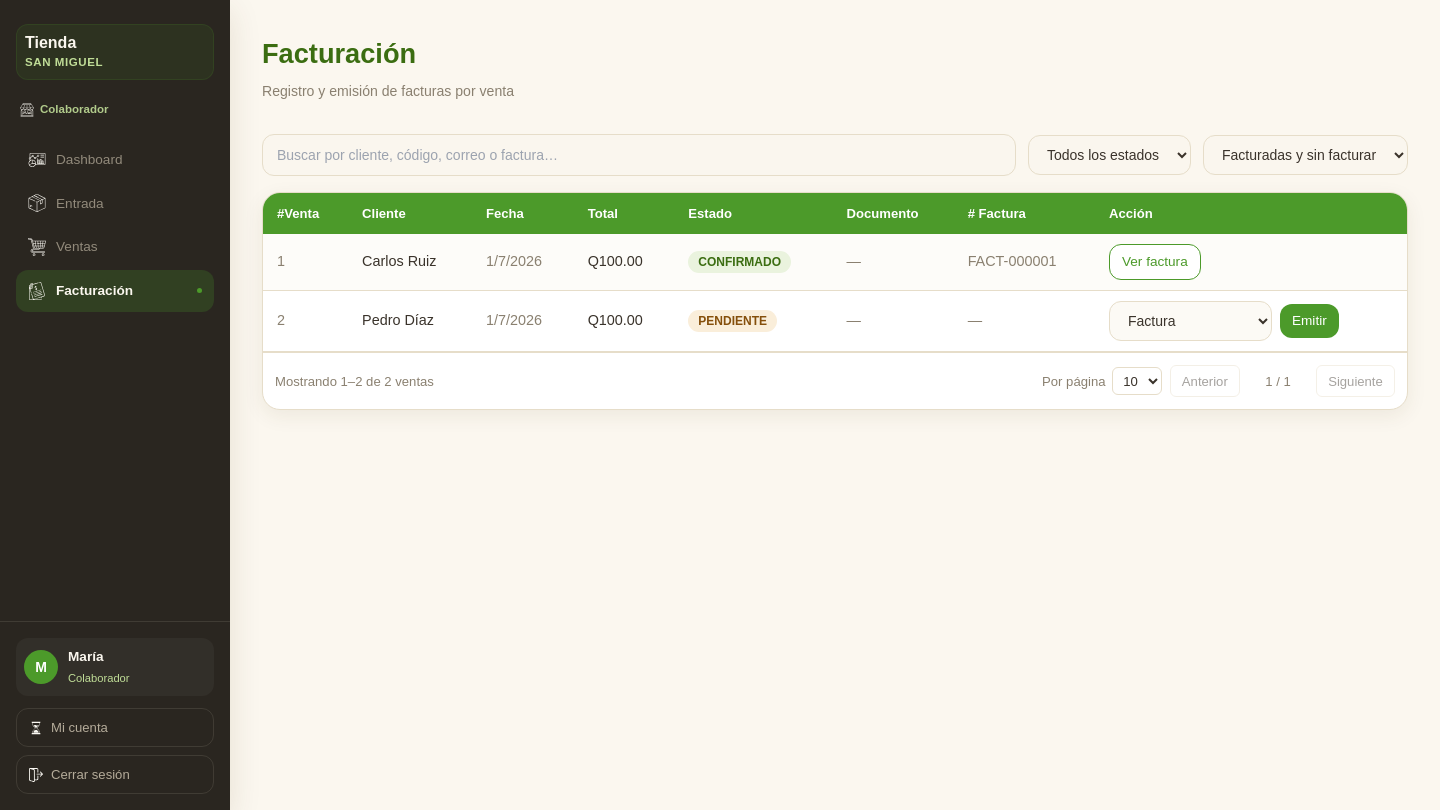
FacturacionPage › filters rows by estado_venta
Expected: the text "Carlos Ruiz" is shown, [348,234,472,290]
Select "PENDIENTE" in the dropdown named "Filtrar por estado" at (1110, 155), box [1028,135,1191,175]
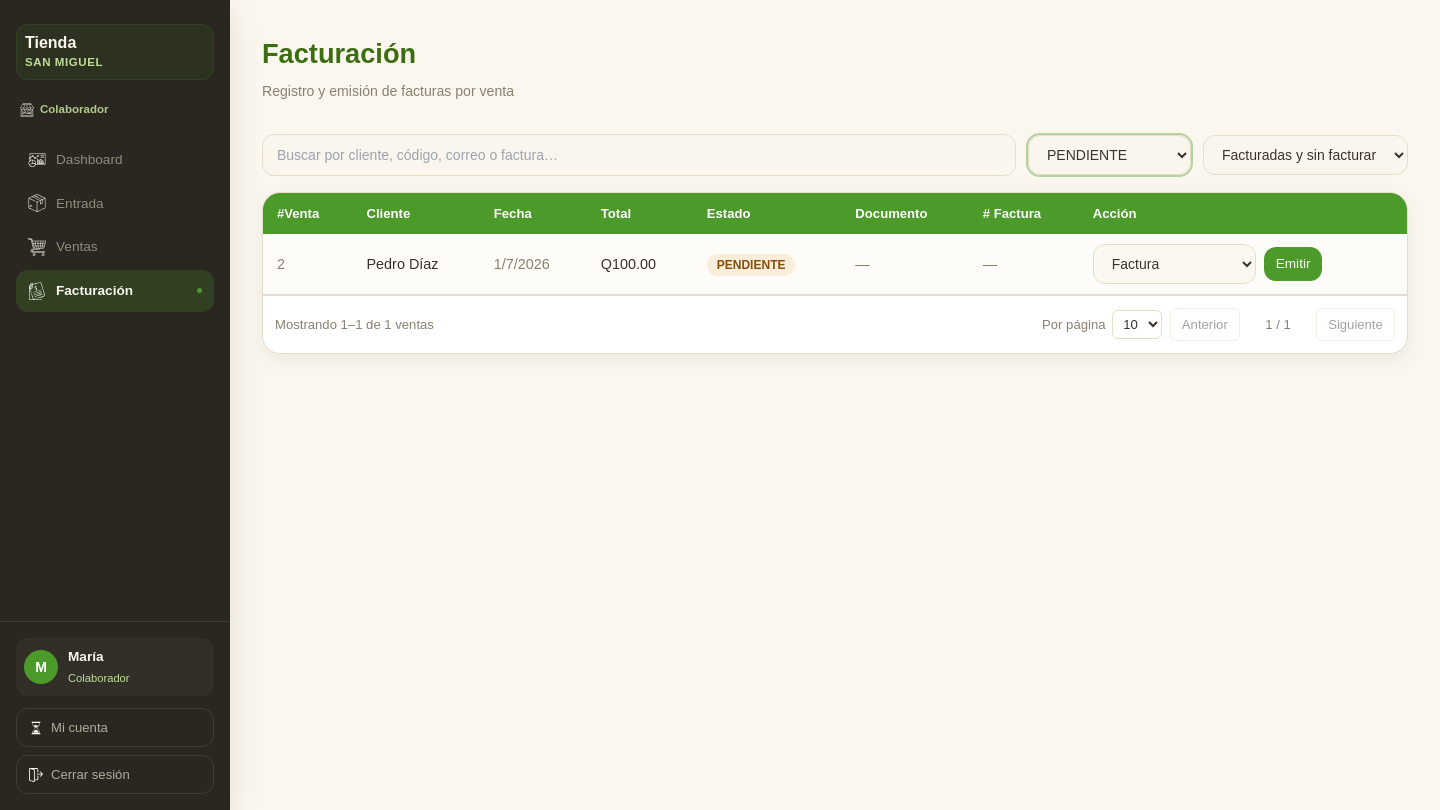
Expected: the text "Pedro Díaz" is shown, [352,234,480,294]
Result: the text "Carlos Ruiz" is gone
